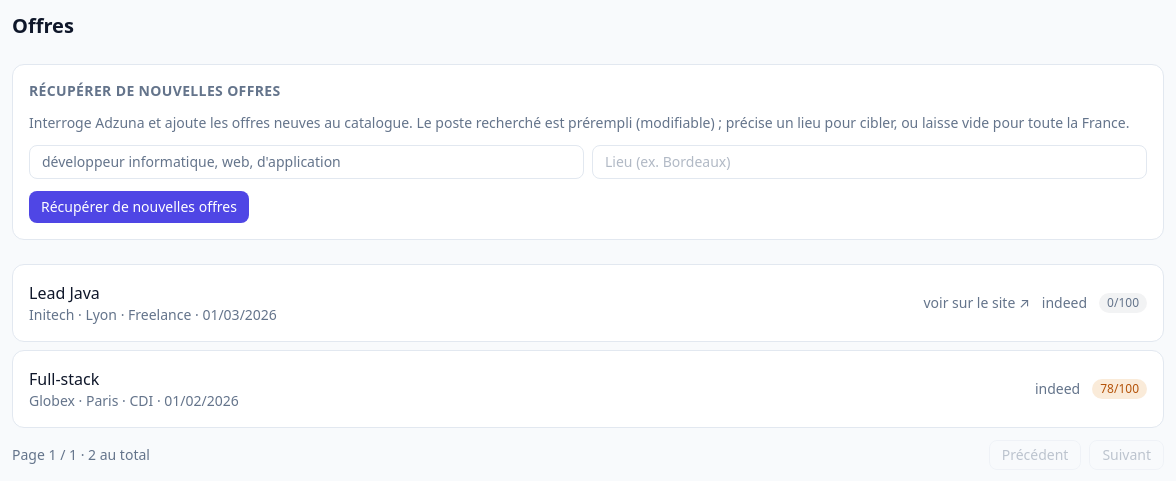
Test: OffersPage › sonde jusqu'à la fin : progression en cours puis bilan final
The image size is (1176, 481).
Check: the button "Lead Java" is shown, box [29, 281, 908, 305]
Click the button "Récupérer de nouvelles offres" at (139, 207), box [29, 191, 249, 223]
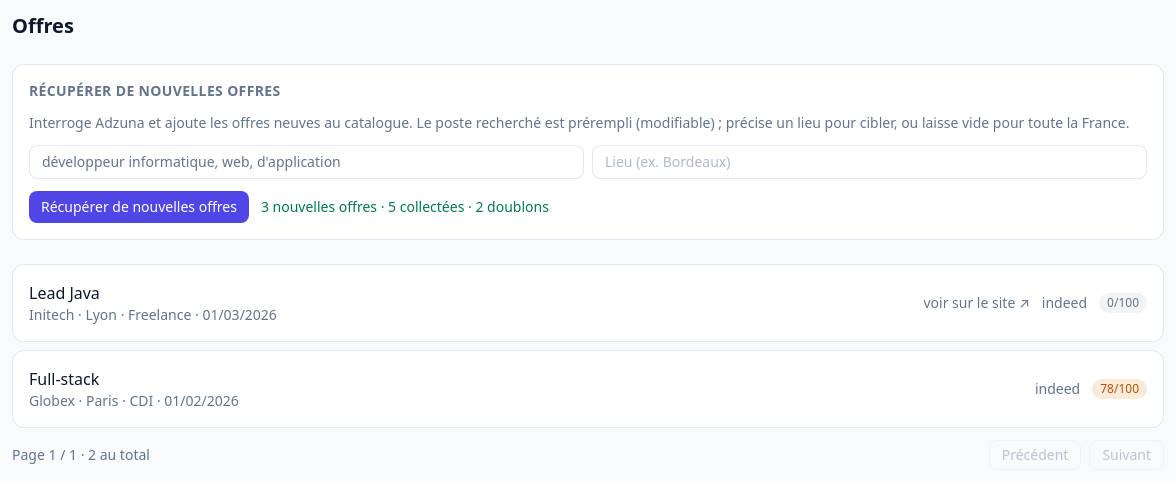
Check: the text "3 nouvelles offres · 5 collectées · 2 doublons" is shown, box [261, 197, 549, 217]
